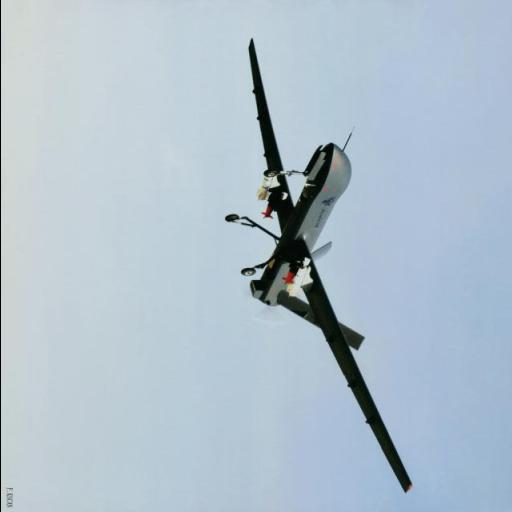uav: (230, 40, 416, 509)
